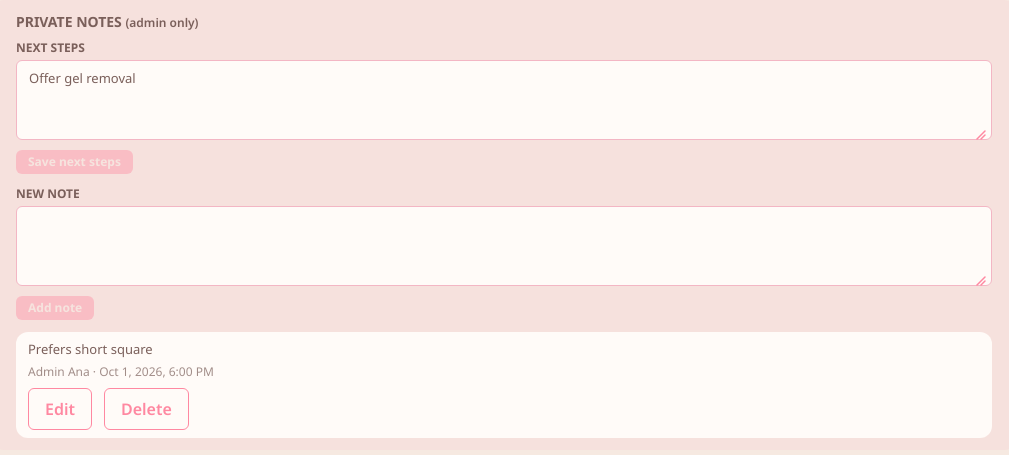
Test: ClientNotesPanel › needs a second click to delete a note
The width and height of the screenshot is (1009, 455).
Expected: the text box labelled "Next steps" is shown, [16,60,992,140]
Click the button "Delete" at (146, 408), box [104,388,189,430]
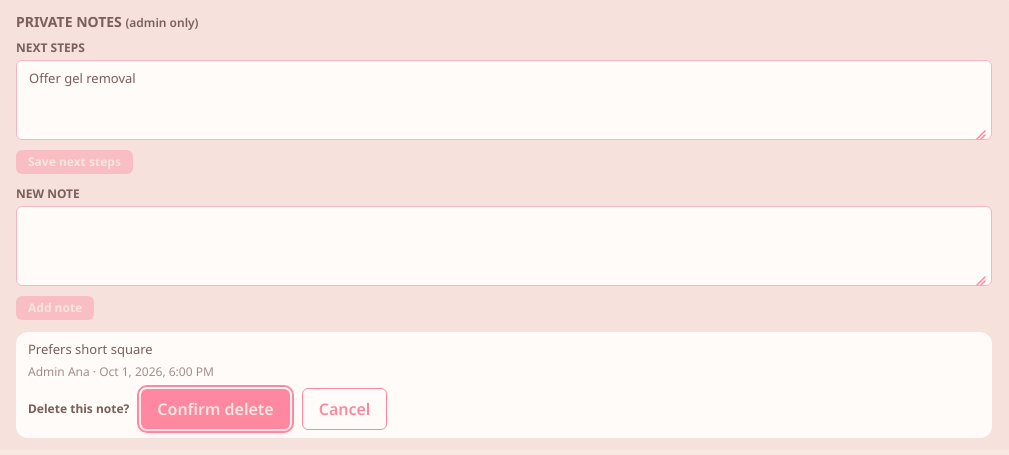
Result: the text "Delete this note?" is shown at [28,400,129,416]
Click the button "Confirm delete" at (215, 408), box [141,388,290,428]
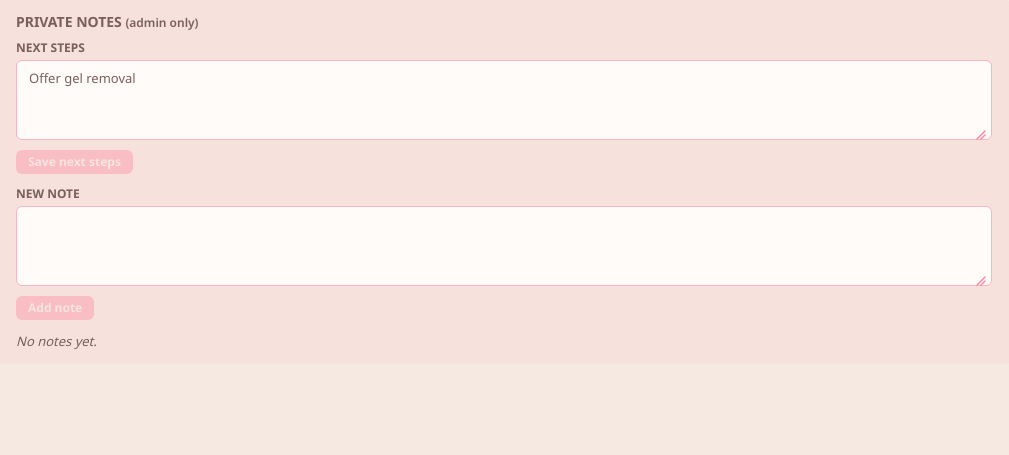
Result: the text "Prefers short square" is gone
